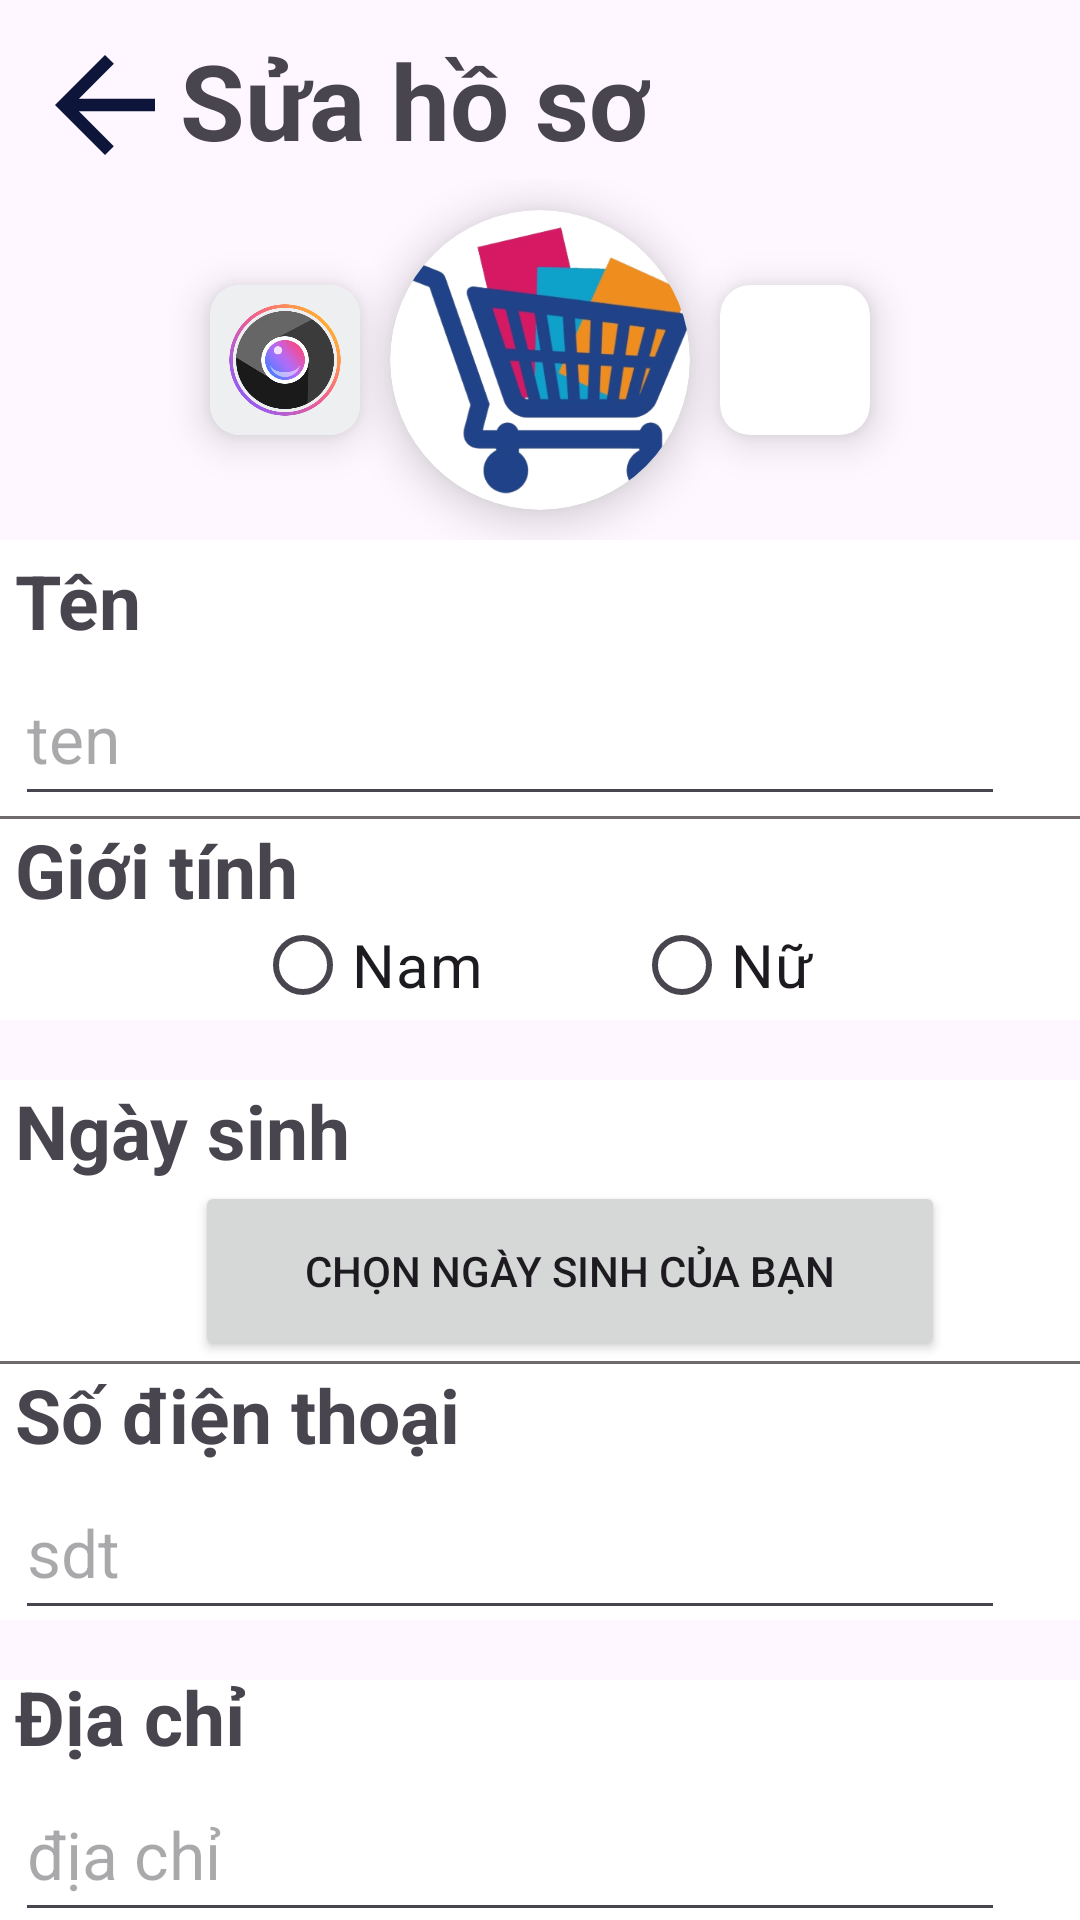

Screen size 1080 x 1920. Icon name, then its center in pixels as [x,y]:
camera: [285,360]
gio hang: [540,360]
previou: [105,105]
